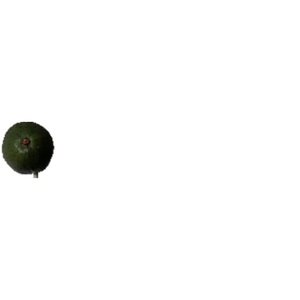abacate: (3, 117, 59, 177)
